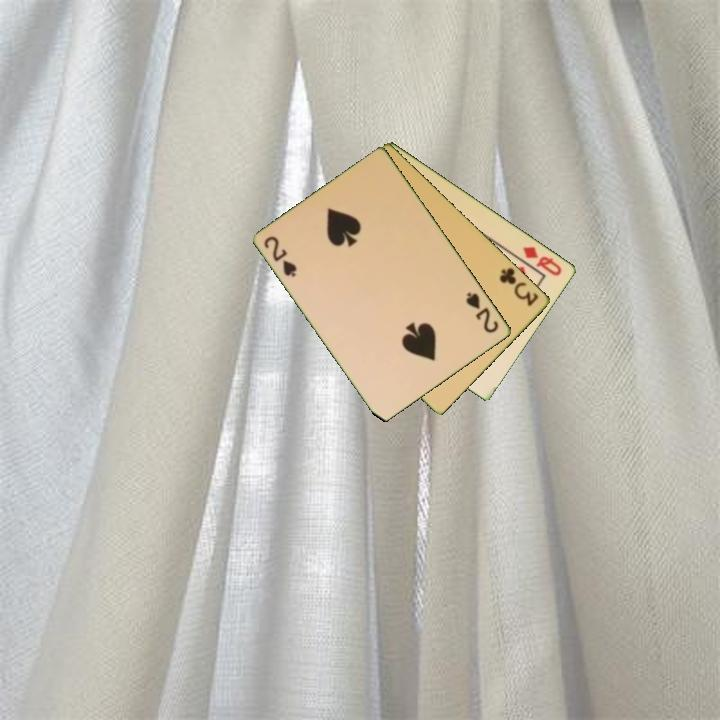2s: (463, 288, 502, 336), (261, 233, 300, 280)
3c: (496, 264, 542, 309)
Qd: (519, 243, 565, 279)
